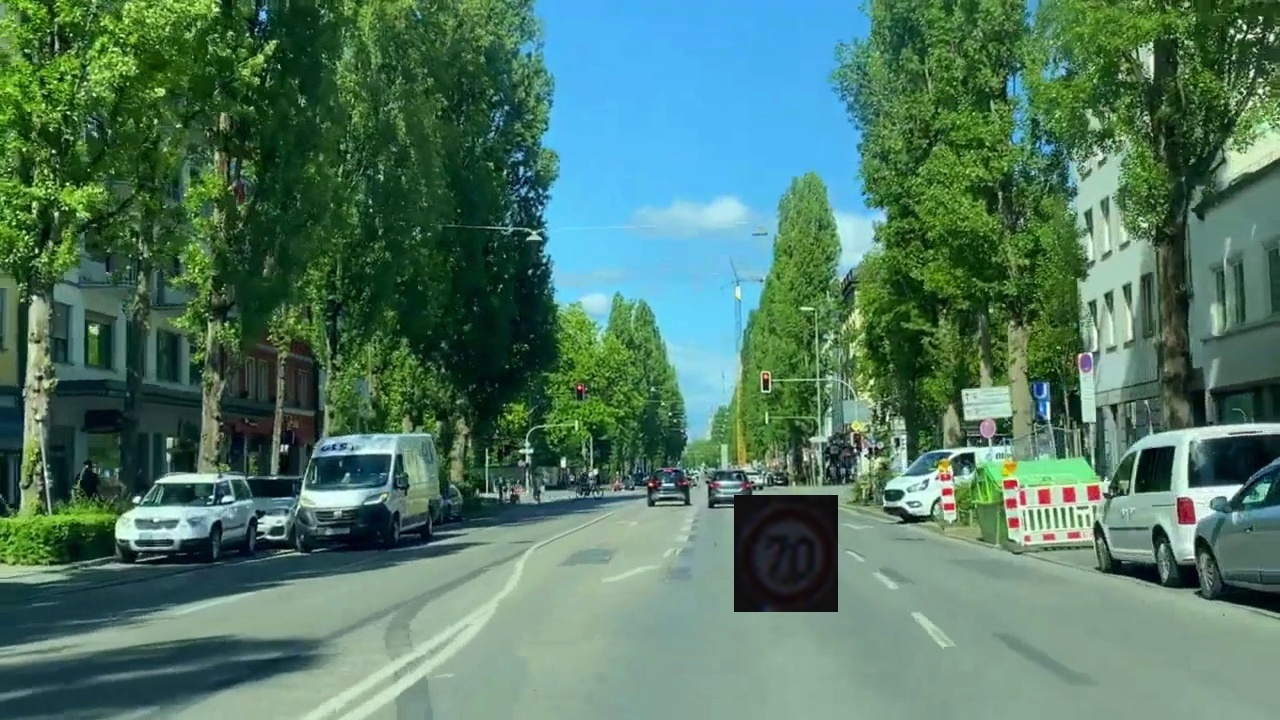Speed 70: (734, 495, 838, 612)
